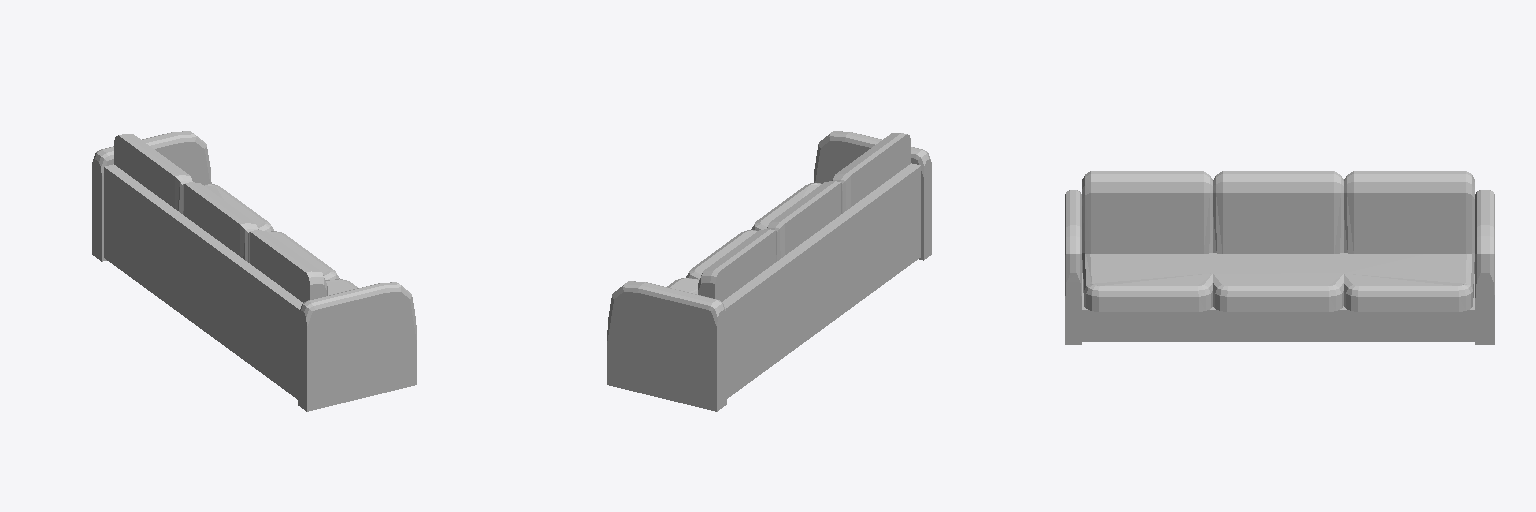
File: Sofa03_3_green.obj
The picture shows the model from 3 angles: view 1: azimuth 30°, elevation 25°; view 2: azimuth 150°, elevation 25°; view 3: azimuth 270°, elevation 25°; orthographic projection.
Visible parts, largest first — view 1: Sofa03_3_Green_LOD0_divan_bed.002; view 2: Sofa03_3_Green_LOD0_divan_bed.002; view 3: Sofa03_3_Green_LOD0_divan_bed.002.
Part boxes in pixels (x1,y1,x2,y2): Sofa03_3_Green_LOD0_divan_bed.002: (92, 131, 416, 411); Sofa03_3_Green_LOD0_divan_bed.002: (607, 131, 931, 411); Sofa03_3_Green_LOD0_divan_bed.002: (1065, 171, 1494, 344).
Size of the model in its own units: 0.8384 by 0.8957 by 2.76.